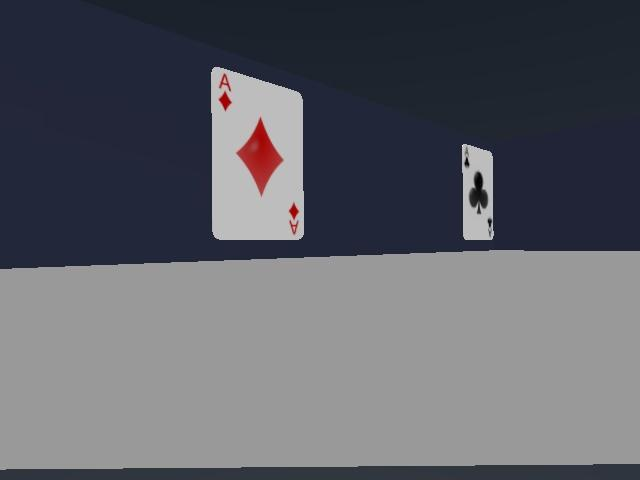club: (462, 145, 493, 239)
diamond: (211, 67, 303, 239)
